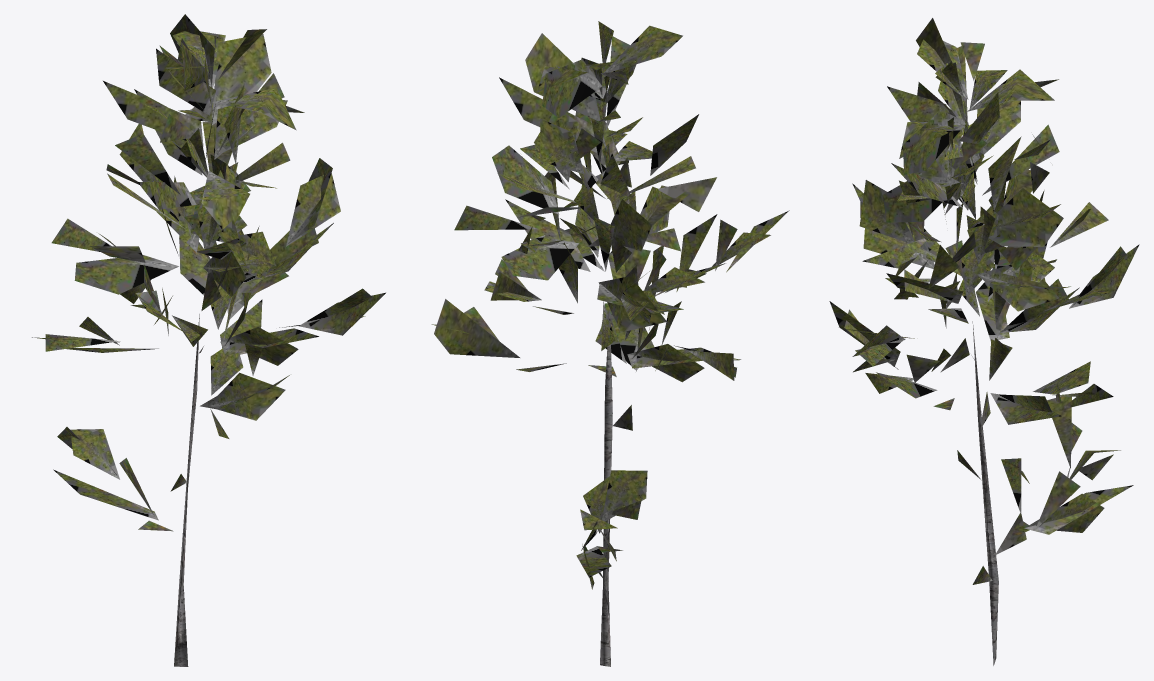
Rendered from temperate-birch-big-map.glb.
The picture shows the model from 3 angles, left to right: view 1: azimuth 30°, elevation 25°; view 2: azimuth 150°, elevation 25°; view 3: azimuth 270°, elevation 25°; orthographic projection. The views are drawn at different scales.
Parts seen in each view (by area): view 1: birch_big_LOD0; view 2: birch_big_LOD0; view 3: birch_big_LOD0.
Part boxes in pixels (left/top/right/bottom): birch_big_LOD0: left=32, top=14, right=385, bottom=666; birch_big_LOD0: left=431, top=21, right=789, bottom=666; birch_big_LOD0: left=829, top=18, right=1139, bottom=665.
Bounding box in the file's own units: 11.35 × 25.03 × 11.55.
Materials: 1 (1 with a texture image).
